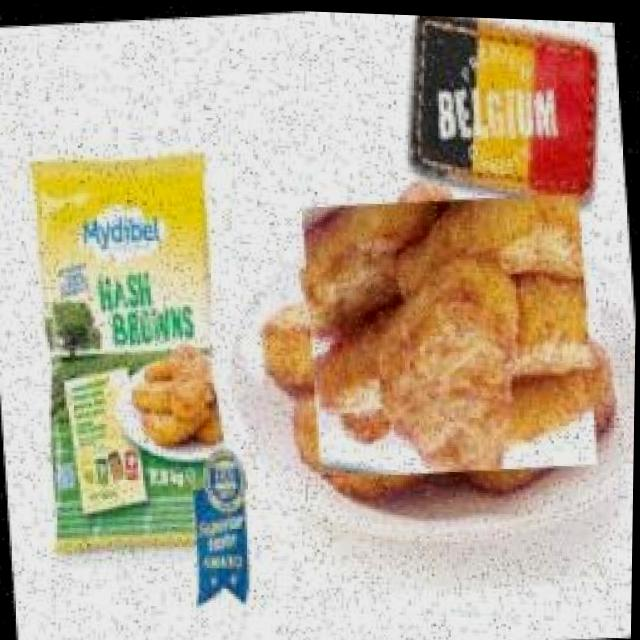triangle_hash_brown: (298, 182, 604, 486)
